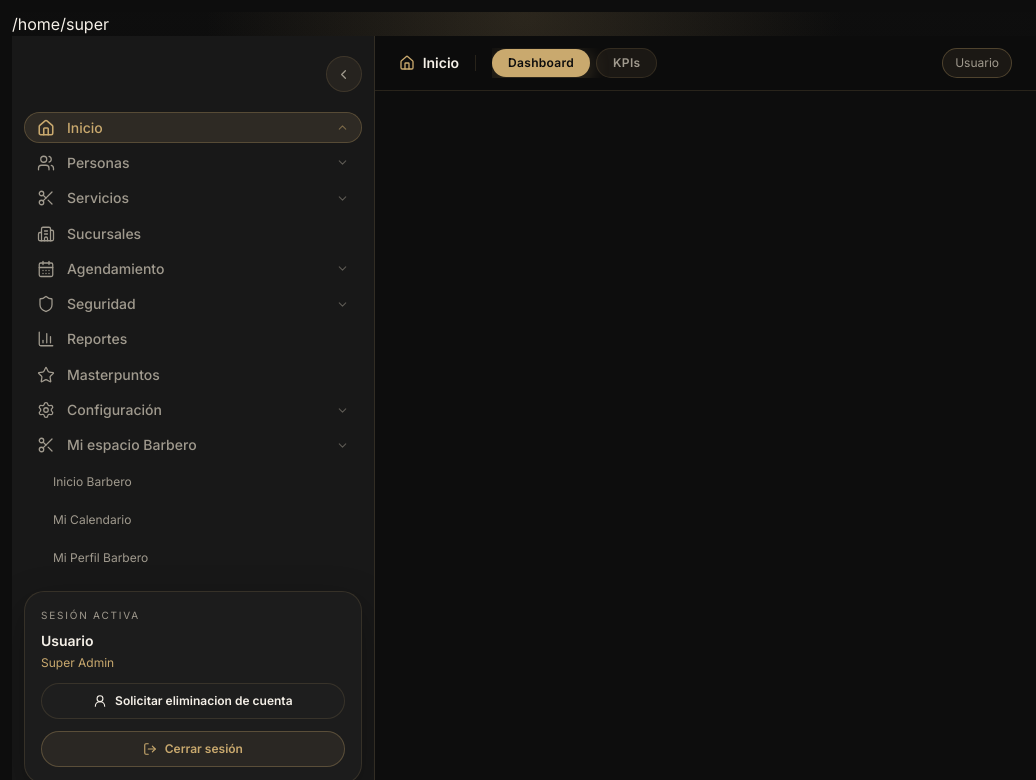
it: escritorio: cambia de panel, navega y vuelve con la misma sesión super_admin
This screenshot has width=1036, height=780.
Click the button named "Colapsar sidebar".
click(344, 74)  # box left=326, top=56, right=362, bottom=92
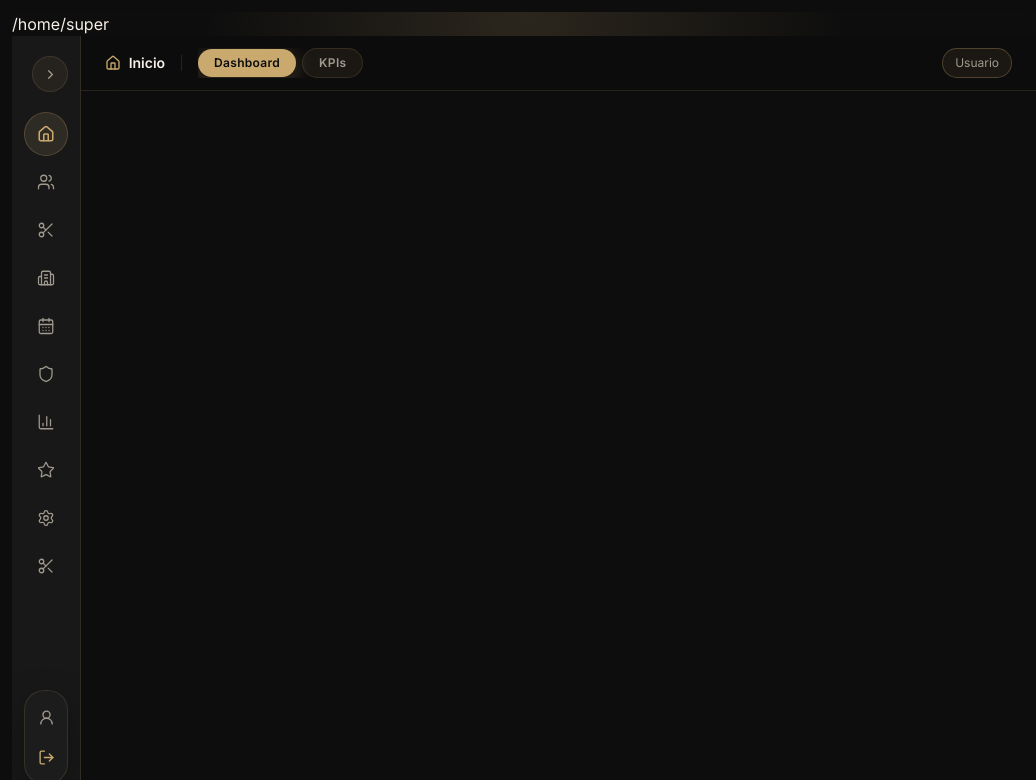
Now the button named "Mi espacio Barbero" has attribute title="Mi espacio Barbero"
Click the button named "Mi espacio Barbero".
click(46, 566)  # box left=24, top=544, right=68, bottom=588
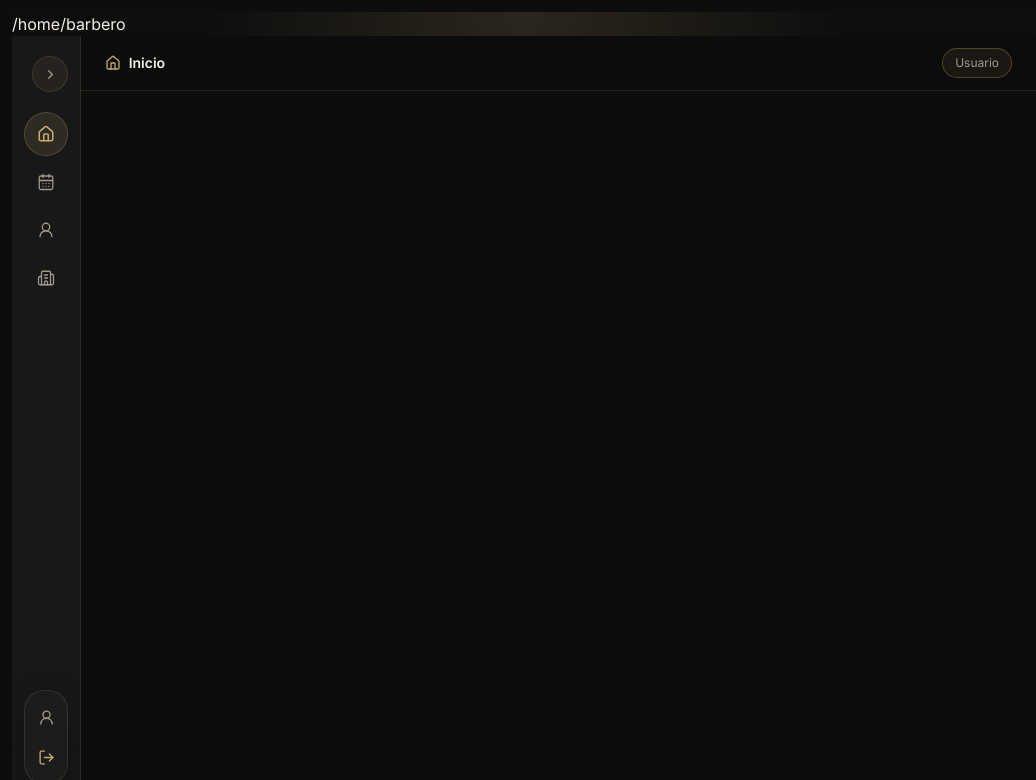
Now the text with test id "location" reads "/home/barbero", box left=12, top=14, right=126, bottom=34
Click the button named "Calendario".
click(46, 182)  # box left=24, top=160, right=68, bottom=204
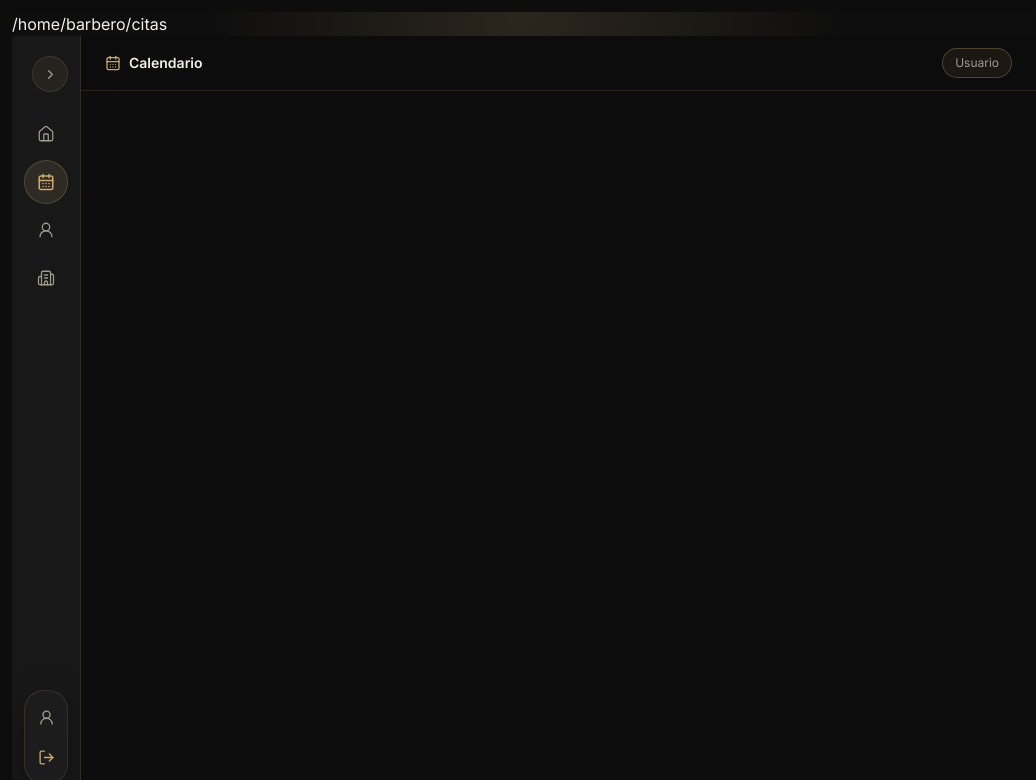
Now the text with test id "location" reads "/home/barbero/citas", box left=12, top=14, right=167, bottom=34
Click the button named "Perfil Barbero".
click(46, 230)  # box left=24, top=208, right=68, bottom=252
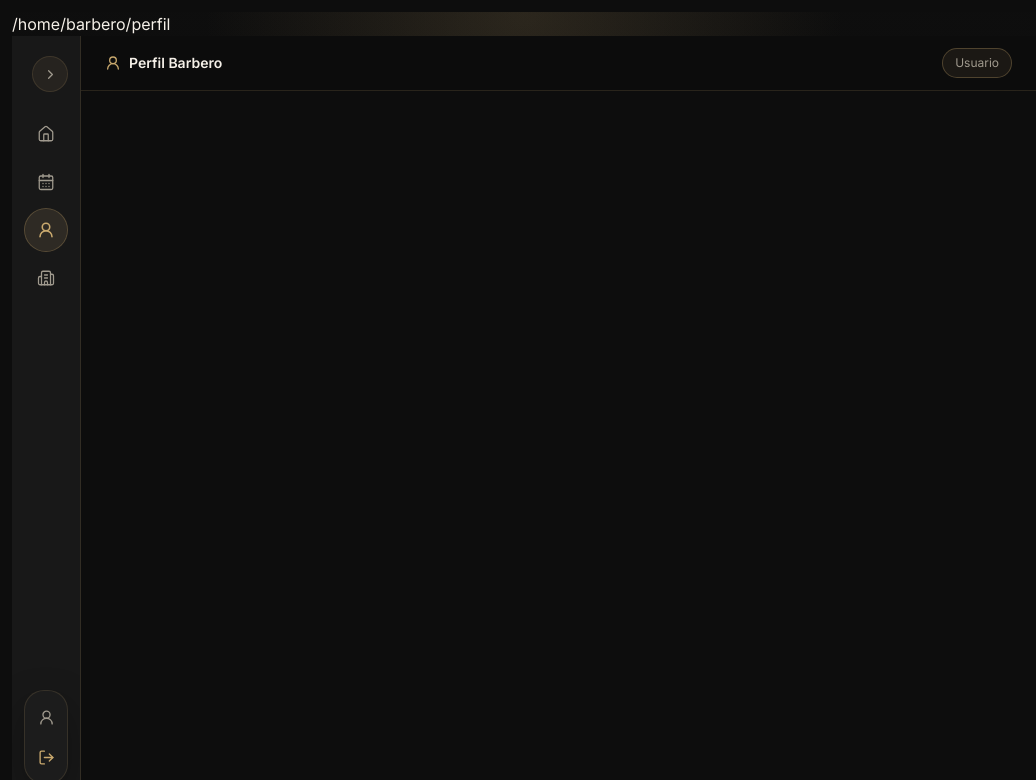
Now the text with test id "location" reads "/home/barbero/perfil", box left=12, top=14, right=170, bottom=34
Click the button named "Volver a Administración".
click(46, 278)  # box left=24, top=256, right=68, bottom=300
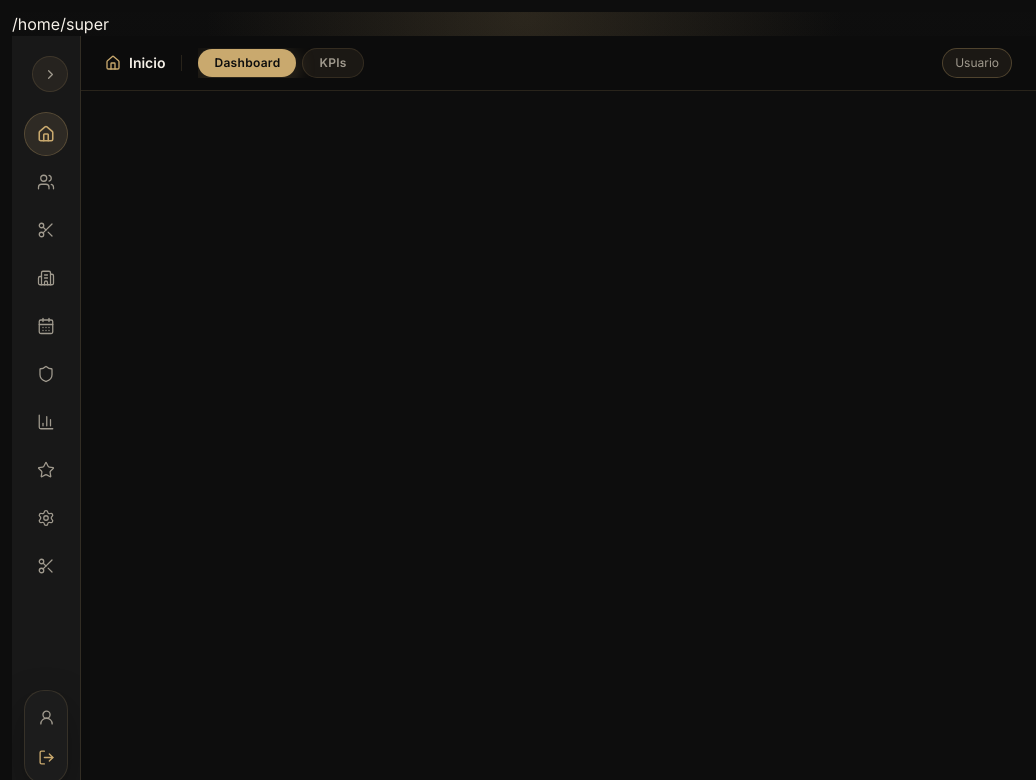
Now the text with test id "location" reads "/home/super", box left=12, top=14, right=109, bottom=34
